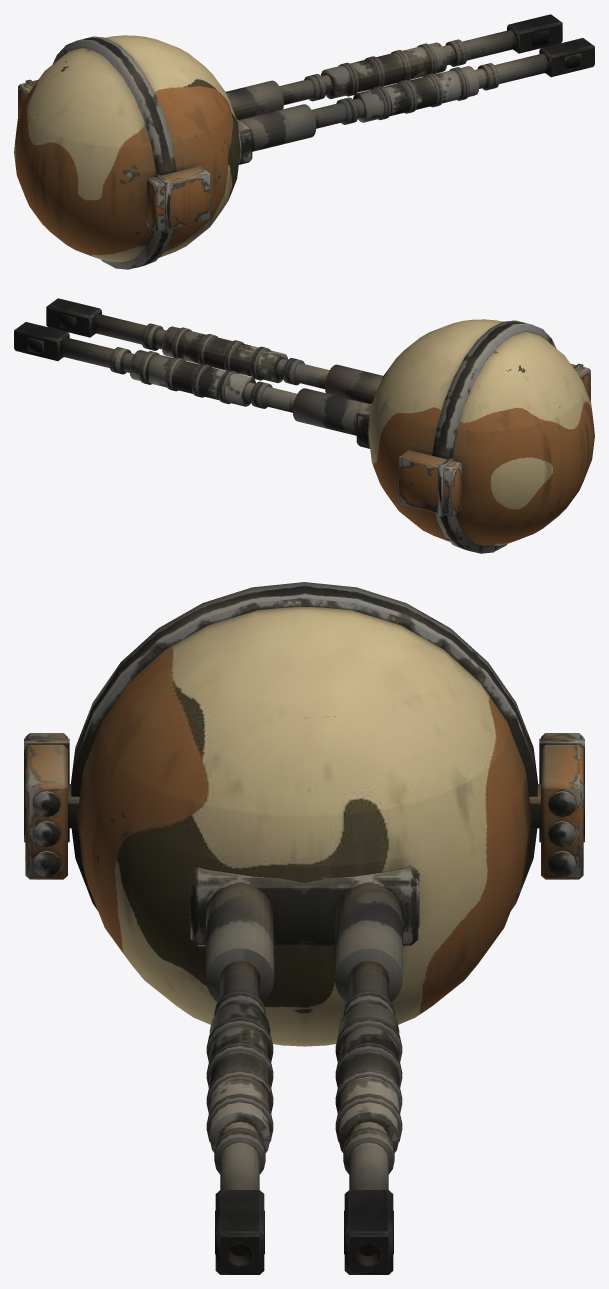
Rendered from turret_kit_tail_ball_t3.glb.
3 renders of one model, top to bottom at view 1: azimuth 30°, elevation 25°; view 2: azimuth 150°, elevation 25°; view 3: azimuth 270°, elevation 25°, orthographic. The views are drawn at different scales.
Parts seen in each view (by area): view 1: turret_tail_ball_t3, pods; view 2: turret_tail_ball_t3, pods; view 3: turret_tail_ball_t3, pods.
Boxes of the visible parts, <box> form: turret_tail_ball_t3: <box>14,14,594,269</box>; pods: <box>18,79,210,232</box>; turret_tail_ball_t3: <box>14,298,594,553</box>; pods: <box>398,363,590,516</box>; turret_tail_ball_t3: <box>71,582,537,1274</box>; pods: <box>24,733,584,879</box>.
Bounding box in the file's own units: 1.66 × 0.62 × 0.7402.
Materials: 2 (2 with a texture image).
